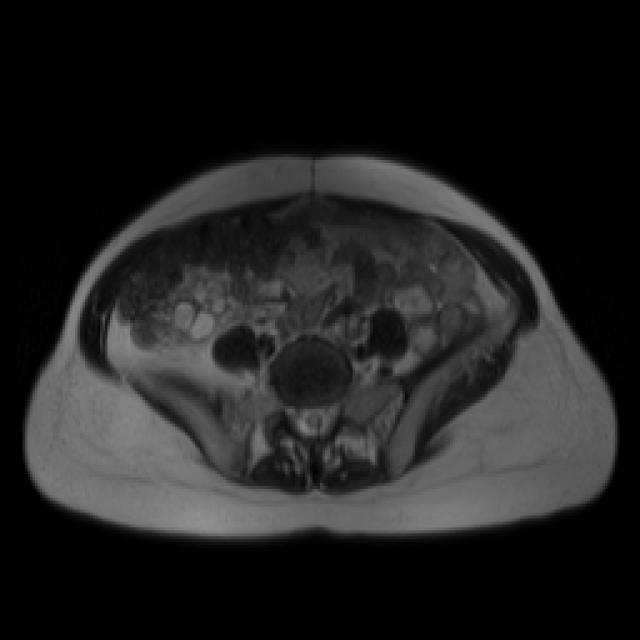sag: (155, 269, 251, 346)
sol: (392, 277, 442, 353)
